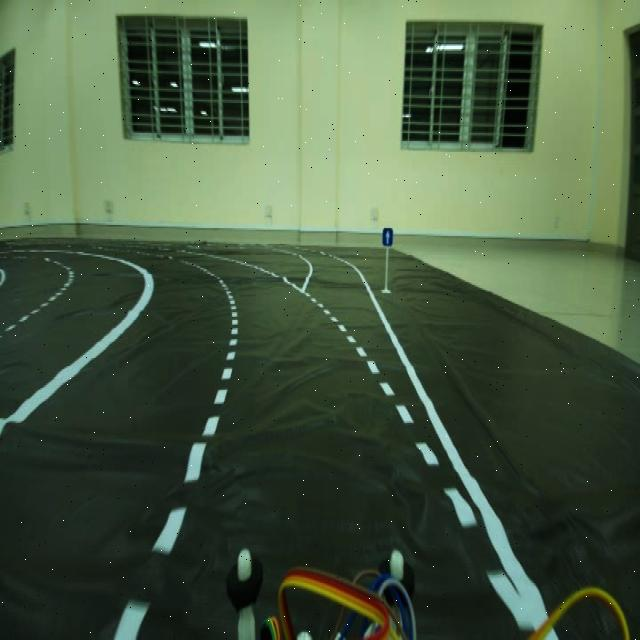onewayroad: (379, 222, 398, 246)
